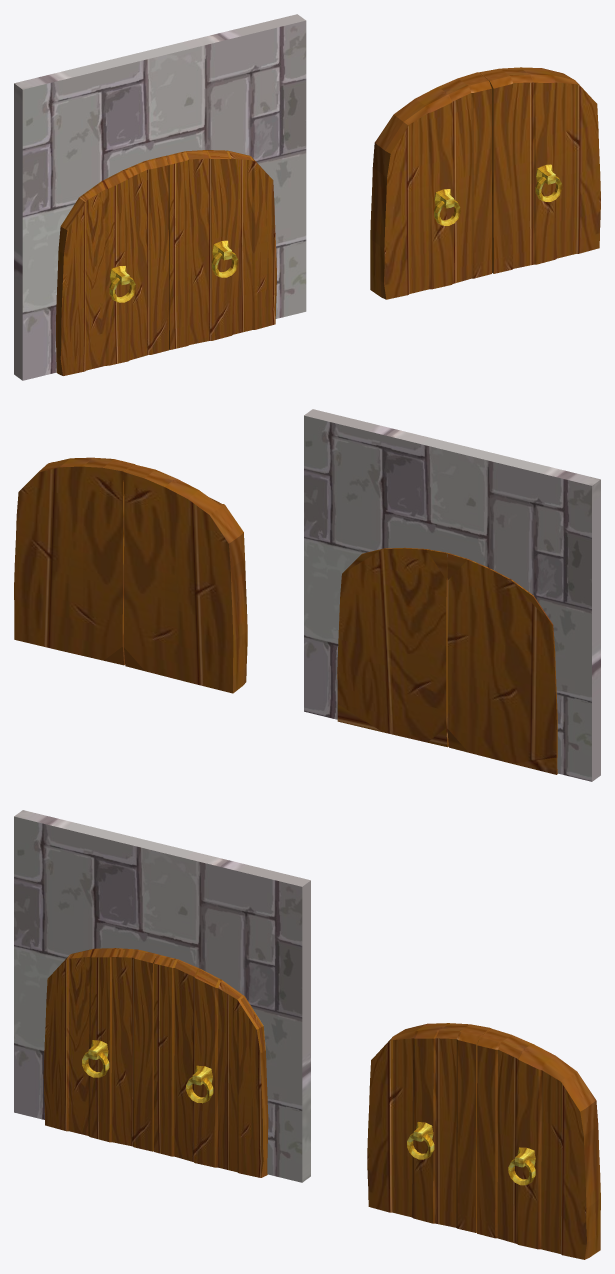
The model's file is Godotdoor_01.glb.
3 renders of one model, top to bottom at view 1: azimuth 30°, elevation 25°; view 2: azimuth 150°, elevation 25°; view 3: azimuth 330°, elevation 25°, orthographic.
Visible parts, largest first — view 1: Wall, Doubledoor, Singledoor1, Singledoor2; view 2: Wall, Doubledoor, Singledoor1, Singledoor2; view 3: Wall, Doubledoor, Singledoor2, Singledoor1.
Part boxes in pixels (x1,y1,x2,y2): Wall: [14, 14, 306, 380]; Doubledoor: [56, 150, 276, 375]; Singledoor1: [370, 72, 491, 299]; Singledoor2: [479, 67, 600, 273]; Wall: [304, 409, 600, 781]; Doubledoor: [337, 547, 557, 774]; Singledoor1: [123, 464, 247, 693]; Singledoor2: [14, 457, 134, 665]; Wall: [14, 810, 310, 1182]; Doubledoor: [43, 948, 268, 1177]; Singledoor2: [477, 1028, 600, 1259]; Singledoor1: [367, 1023, 491, 1232].
Size of the model in its own units: 8.02 by 3.92 by 0.6446.
3 materials, 3 textured.
